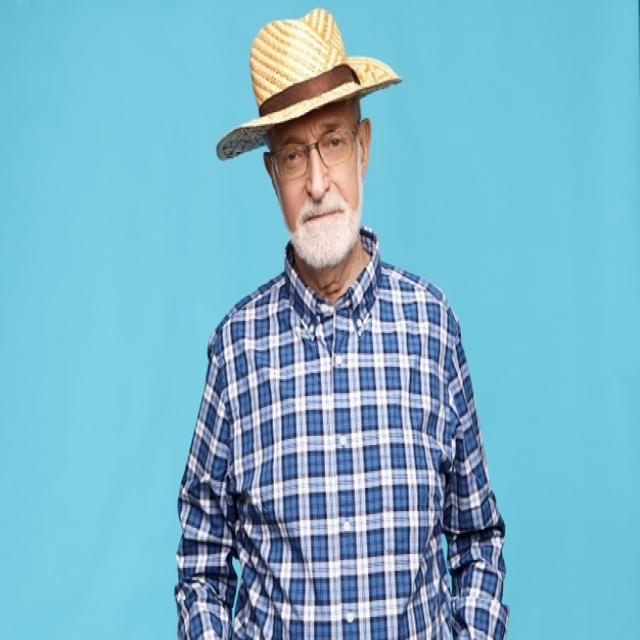hat: (216, 9, 402, 267)
